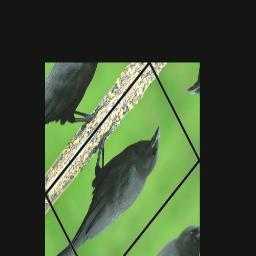Crow: (49, 86, 173, 256)
